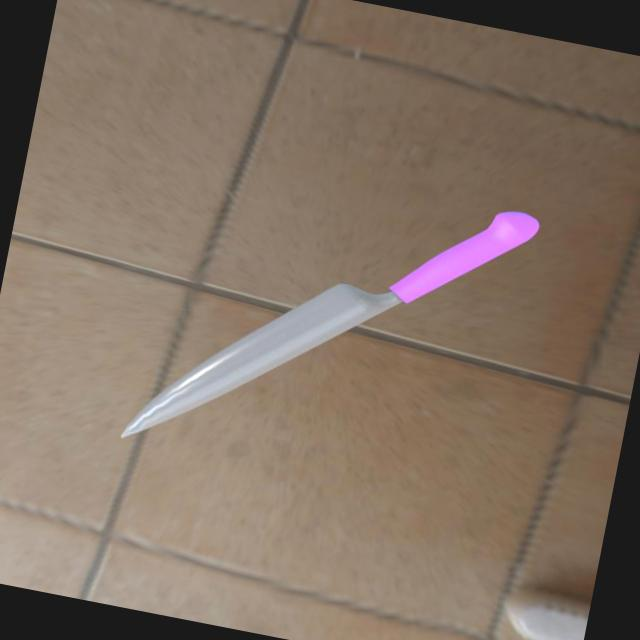knife: (386, 190, 542, 326)
